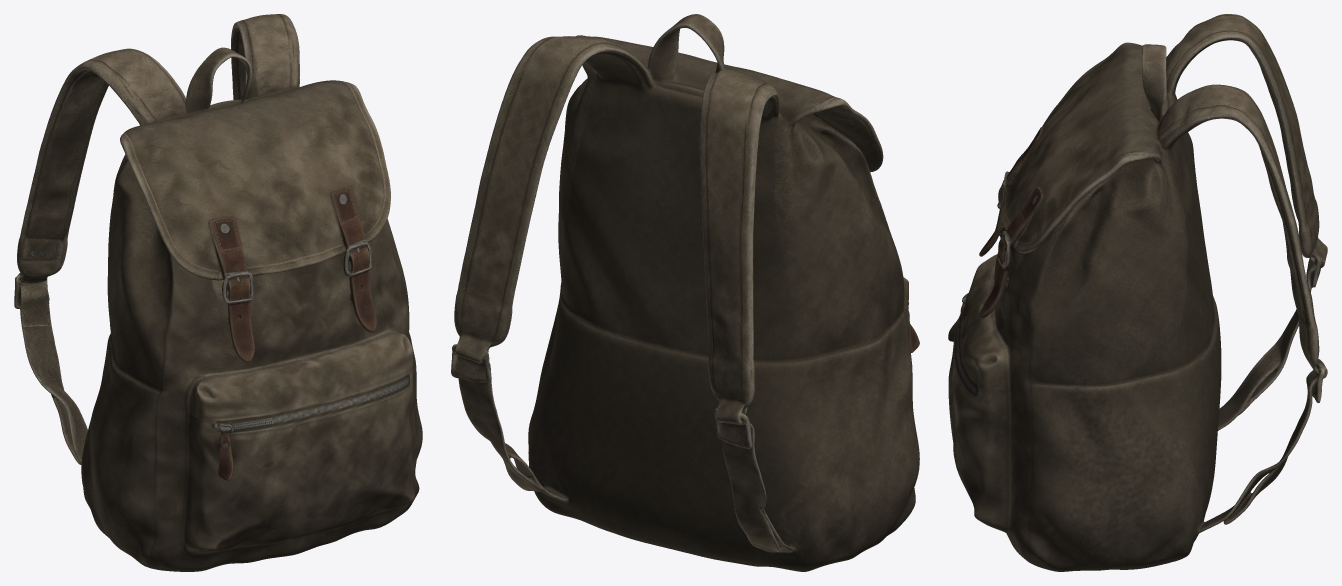
Rendered from mochila2.glb.
The picture shows the model from 3 angles, left to right: view 1: azimuth 30°, elevation 25°; view 2: azimuth 150°, elevation 25°; view 3: azimuth 270°, elevation 25°; orthographic projection. The views are drawn at different scales.
Bounding box in the file's own units: 1.33 × 1.9 × 1.39.
Materials: 1 (1 with a texture image).
